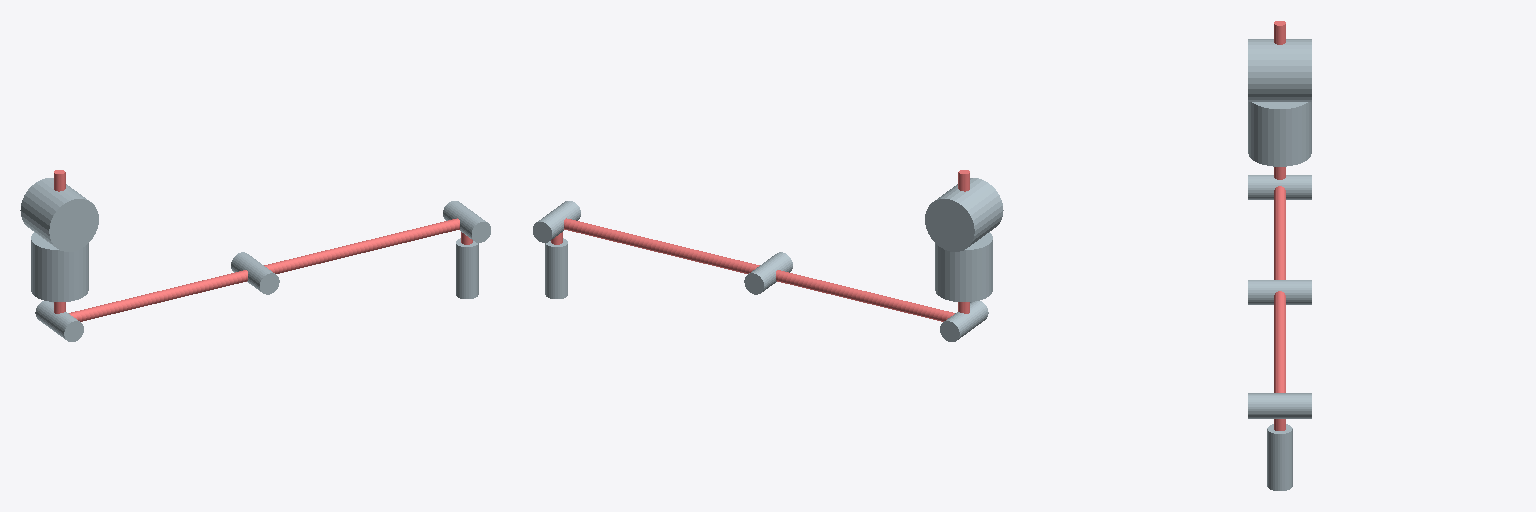
robot.urdf — GenericDH:
<robot name='GenericDH'>
	<material name='blue'>
		<color rgba='0 0 0.8 1'/>
	</material>
	<material name='red'>
		<color rgba='0.8 0 0 1'/>
	</material>
	<link name='a0'>
		<visual>
			<origin rpy='-0.0 0.0 0.0' xyz='0.0 0.0 0.0'/>
			<geometry>
				<cylinder length='0.1' radius='0.02'/>
			</geometry>
			<material name='blue'><color rgba='0.73 0.79 0.82 1'/></material>
		</visual>
	</link>
	<link name='l0'>
		<visual>
			<origin rpy='-0.0 0.0 0.0' xyz='0.0 0.0 0.0447295'/>
			<geometry>
				<cylinder length='0.089459' radius='0.01'/>
			</geometry>
			<material name='grey'><color rgba='0.99 0.54 0.54 1'/></material>
		</visual>
	</link>
	<joint name='move_l0_from_a0' type='continuous'>
		<parent link='a0'/>
		<child link='l0'/>
		<axis xyz='0.0 0.0 1.0'/>
		<origin rpy='0 0 0' xyz='0.0 0.0 0.0'/>
	</joint>
	<link name='a1'>
		<visual>
			<origin rpy='1.5707963267948966 0.0 0.0' xyz='0.0 0.0 0.089459'/>
			<geometry>
				<cylinder length='0.1' radius='0.02'/>
			</geometry>
			<material name='blue'><color rgba='0.73 0.79 0.82 1'/></material>
		</visual>
	</link>
	<joint name='fix_a1_to_l0' type='fixed'>
		<parent link='l0'/>
		<child link='a1'/>
		<origin rpy='0 0 0' xyz='0 0 0'/>
	</joint>
	<link name='l1'>
		<visual>
			<origin rpy='-0.0 -1.5707963267948963 0.0' xyz='-0.2125 -0.0 0.0'/>
			<geometry>
				<cylinder length='0.425' radius='0.01'/>
			</geometry>
			<material name='grey'><color rgba='0.99 0.54 0.54 1'/></material>
		</visual>
	</link>
	<joint name='move_l1_from_a1' type='continuous'>
		<parent link='a1'/>
		<child link='l1'/>
		<axis xyz='0.0 -1.0 0.0'/>
		<origin rpy='0 0 0' xyz='0.0 0.0 0.089459'/>
	</joint>
	<link name='a2'>
		<visual>
			<origin rpy='1.5707963267948966 0.0 0.0' xyz='-0.425 -0.0 0.0'/>
			<geometry>
				<cylinder length='0.1' radius='0.02'/>
			</geometry>
			<material name='blue'><color rgba='0.73 0.79 0.82 1'/></material>
		</visual>
	</link>
	<joint name='fix_a2_to_l1' type='fixed'>
		<parent link='l1'/>
		<child link='a2'/>
		<origin rpy='0 0 0' xyz='0 0 0'/>
	</joint>
	<link name='l2'>
		<visual>
			<origin rpy='-0.0 -1.5707963267948963 0.0' xyz='-0.196125 -0.0 0.0'/>
			<geometry>
				<cylinder length='0.39225' radius='0.01'/>
			</geometry>
			<material name='grey'><color rgba='0.99 0.54 0.54 1'/></material>
		</visual>
	</link>
	<joint name='move_l2_from_a2' type='continuous'>
		<parent link='a2'/>
		<child link='l2'/>
		<axis xyz='0.0 -1.0 0.0'/>
		<origin rpy='0 0 0' xyz='-0.425 -0.0 0.0'/>
	</joint>
	<link name='a3'>
		<visual>
			<origin rpy='1.5707963267948966 0.0 0.0' xyz='-0.39225 -0.0 0.0'/>
			<geometry>
				<cylinder length='0.1' radius='0.02'/>
			</geometry>
			<material name='blue'><color rgba='0.73 0.79 0.82 1'/></material>
		</visual>
	</link>
	<joint name='fix_a3_to_l2' type='fixed'>
		<parent link='l2'/>
		<child link='a3'/>
		<origin rpy='0 0 0' xyz='0 0 0'/>
	</joint>
	<link name='l3'>
		<visual>
			<origin rpy='-0.0 0.0 0.0' xyz='0.0 0.0 0.054575'/>
			<geometry>
				<cylinder length='0.10915' radius='0.01'/>
			</geometry>
			<material name='grey'><color rgba='0.99 0.54 0.54 1'/></material>
		</visual>
	</link>
	<joint name='move_l3_from_a3' type='continuous'>
		<parent link='a3'/>
		<child link='l3'/>
		<axis xyz='0.0 -1.0 0.0'/>
		<origin rpy='0 0 0' xyz='-0.39225 -0.0 0.0'/>
	</joint>
	<link name='a4'>
		<visual>
			<origin rpy='3.141592653589793 0.0 0.0' xyz='0.0 0.0 0.10915'/>
			<geometry>
				<cylinder length='0.1' radius='0.05'/>
			</geometry>
			<material name='blue'><color rgba='0.73 0.79 0.82 1'/></material>
		</visual>
	</link>
	<joint name='fix_a4_to_l3' type='fixed'>
		<parent link='l3'/>
		<child link='a4'/>
		<origin rpy='0 0 0' xyz='0 0 0'/>
	</joint>
	<link name='l4'>
		<visual>
			<origin rpy='-0.0 0.0 0.0' xyz='0.0 0.0 0.047325'/>
			<geometry>
				<cylinder length='0.09465' radius='0.01'/>
			</geometry>
			<material name='grey'><color rgba='0.99 0.54 0.54 1'/></material>
		</visual>
	</link>
	<joint name='move_l4_from_a4' type='continuous'>
		<parent link='a4'/>
		<child link='l4'/>
		<axis xyz='0.0 -1.2246467991473532e-16 -1.0'/>
		<origin rpy='0 0 0' xyz='0.0 0.0 0.10915'/>
	</joint>
	<link name='a5'>
		<visual>
			<origin rpy='1.5707963267948966 0.0 0.0' xyz='0.0 0.0 0.09465'/>
			<geometry>
				<cylinder length='0.1' radius='0.05'/>
			</geometry>
			<material name='blue'><color rgba='0.73 0.79 0.82 1'/></material>
		</visual>
	</link>
	<joint name='fix_a5_to_l4' type='fixed'>
		<parent link='l4'/>
		<child link='a5'/>
		<origin rpy='0 0 0' xyz='0 0 0'/>
	</joint>
	<link name='l5'>
		<visual>
			<origin rpy='-0.0 0.0 0.0' xyz='0.0 0.0 0.04115'/>
			<geometry>
				<cylinder length='0.0823' radius='0.01'/>
			</geometry>
			<material name='grey'><color rgba='0.99 0.54 0.54 1'/></material>
		</visual>
	</link>
	<joint name='move_l5_from_a5' type='continuous'>
		<parent link='a5'/>
		<child link='l5'/>
		<axis xyz='0.0 -1.0 0.0'/>
		<origin rpy='0 0 0' xyz='0.0 0.0 0.09465'/>
	</joint>
</robot>

--- What the picture shows (computed from the rendered views, not written in the file) ---
3 views of the same robot in one strip: view 1: azimuth 30°, elevation 25°; view 2: azimuth 150°, elevation 25°; view 3: azimuth 270°, elevation 25° (orthographic).
Model GenericDH with 12 links and 11 joints (6 continuous, 5 fixed), rooted at a0, posed all joints at 0.
Visible links, largest first — view 1: a5, a4, l1, l2, a0, a2, a3, a1; view 2: a5, a4, l1, l2, a0, a2, a3, a1; view 3: a5, a4, a1, a0, a2, a3, l1, l2.
Link boxes in pixels (x1,y1,x2,y2): a5: (20,178,98,251); a4: (31,232,88,301); l1: (264,218,459,273); l2: (69,270,247,321); a0: (456,238,478,298); a2: (231,252,279,294); a3: (35,301,83,341); a1: (443,201,490,242); a5: (925,178,1003,251); a4: (935,232,992,301); l1: (564,218,759,273); l2: (776,270,954,321); a0: (545,238,567,298); a2: (744,252,792,294); a3: (940,301,988,341); a1: (533,201,580,242); a5: (1248,39,1311,101); a4: (1248,102,1311,166); a1: (1248,393,1311,418); a0: (1267,424,1292,490); a2: (1248,280,1311,304); a3: (1248,175,1311,199); l1: (1274,291,1285,392); l2: (1274,186,1285,279).
Size in the robot's own frame: 0.8873 by 0.1 by 0.4256 metres.
Geometry: primitives only (box / cylinder / sphere), no mesh files.
